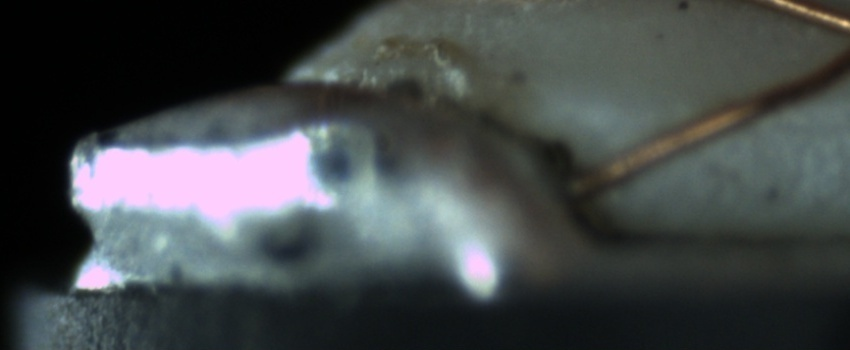DL: (761, 92, 850, 158)
